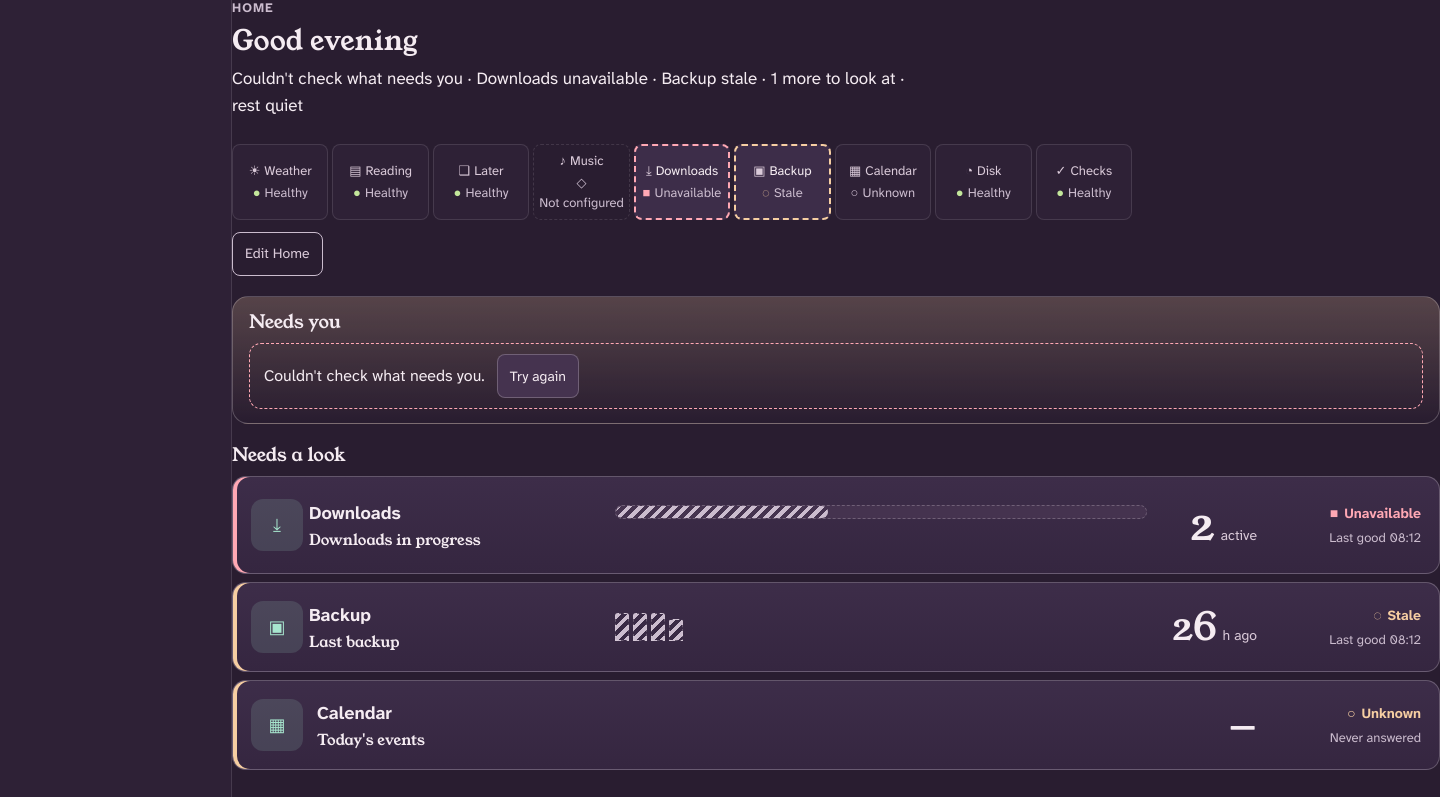
Scenario: needs you is independent and honest › B2: a needs-you failure never says nothing is waiting, and the briefing says so
Expected: the message shows "Couldn't check what needs you", [264,365,485,386]
Expected: the text "Couldn't check what needs you · " is shown, [232,67,904,116]
Click the button "Try again" at (538, 376), box [497,354,579,398]
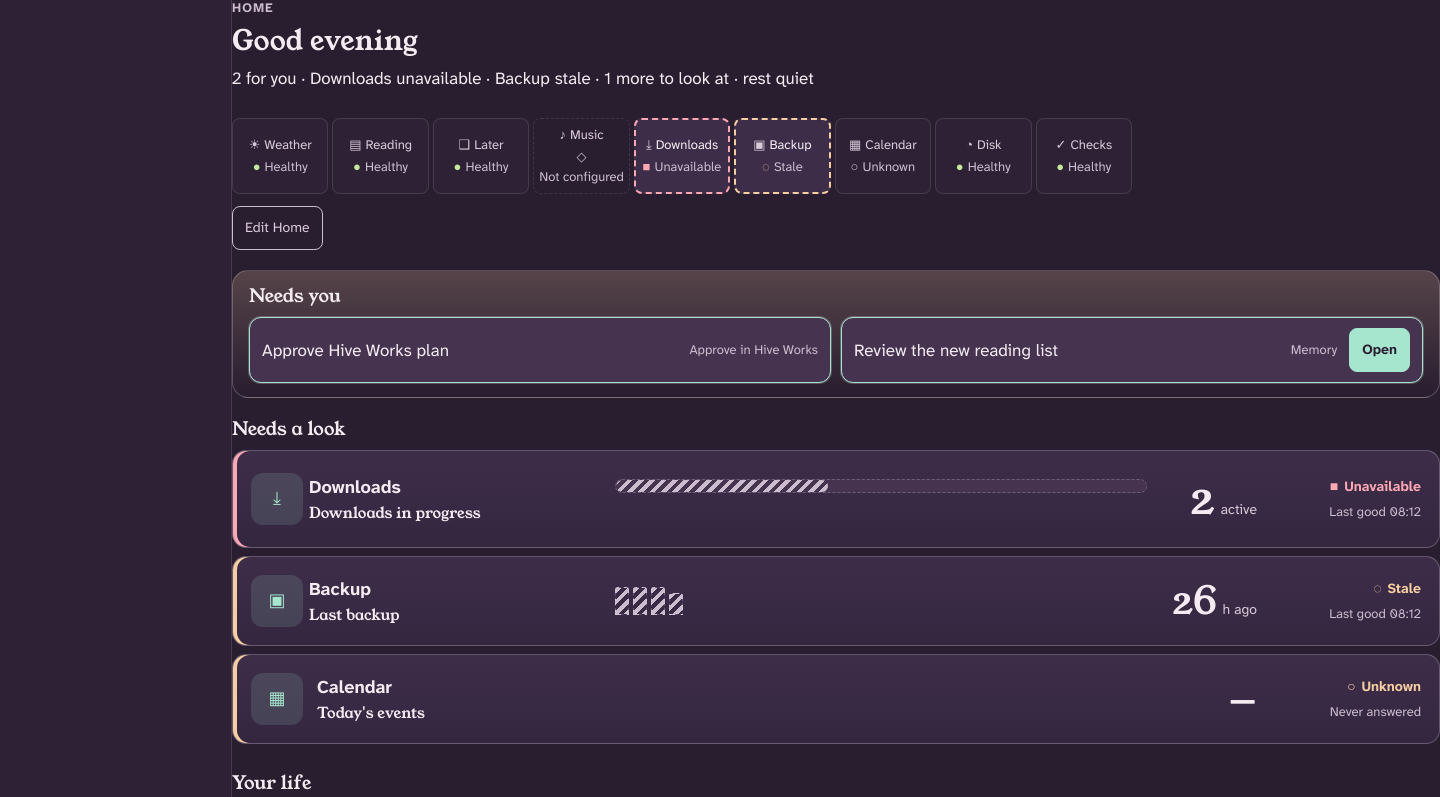
Expected: the text "Approve Hive Works plan" is shown, [262,339,449,361]
